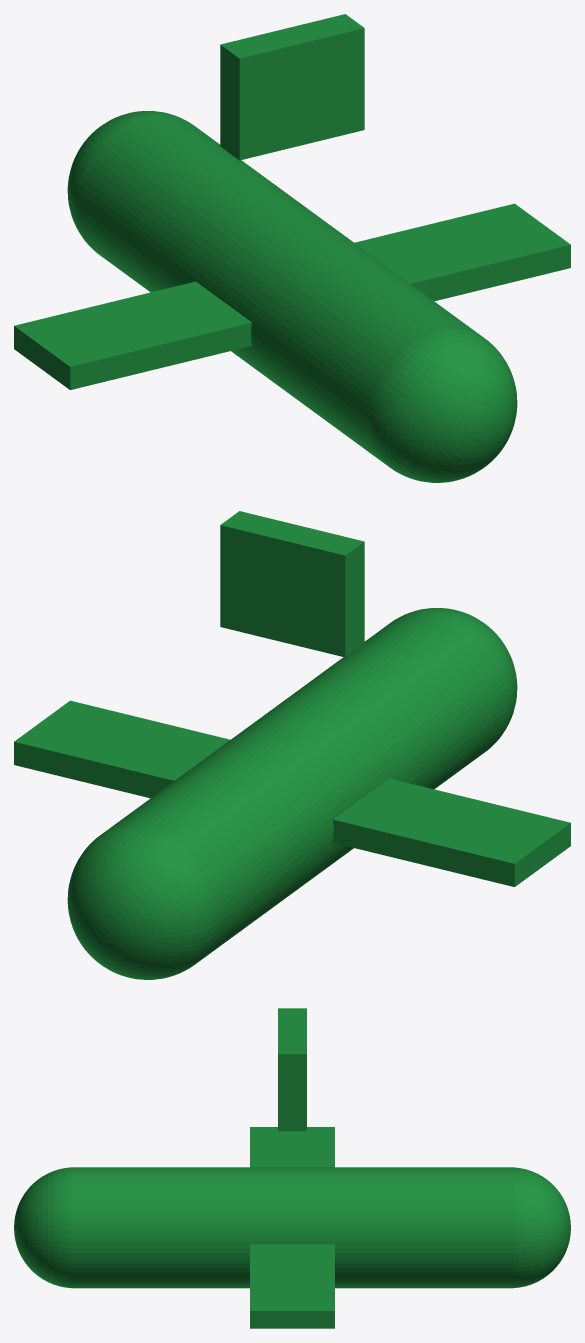
Rendered from tech_123.glb.
The picture shows the model from 3 angles, top to bottom: view 1: azimuth 30°, elevation 25°; view 2: azimuth 150°, elevation 25°; view 3: azimuth 270°, elevation 25°; orthographic projection. The views are drawn at different scales.
Visible parts, largest first — view 1: world; view 2: world; view 3: world.
Part boxes in pixels (x1,y1,x2,y2): world: [14, 14, 570, 482]; world: [14, 511, 570, 979]; world: [14, 1008, 570, 1328].
Size of the model in its own units: 1.8 by 1.14 by 2.3.
